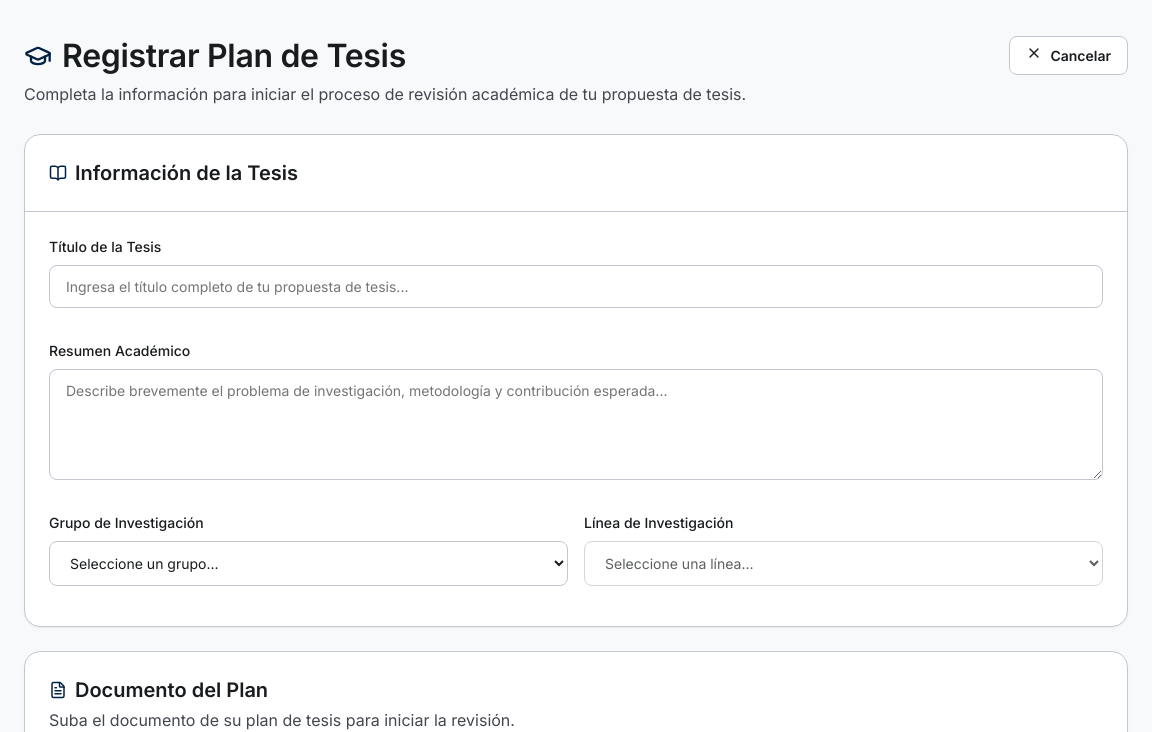
Test: NewThesisPlan › shows validation error for short resumen
Type "Título válido para test" into the field with placeholder "Ingresa el título completo de tu propuesta de tesis..." at [576, 286], box 49,265 -> 1103,308
(page scrolled)
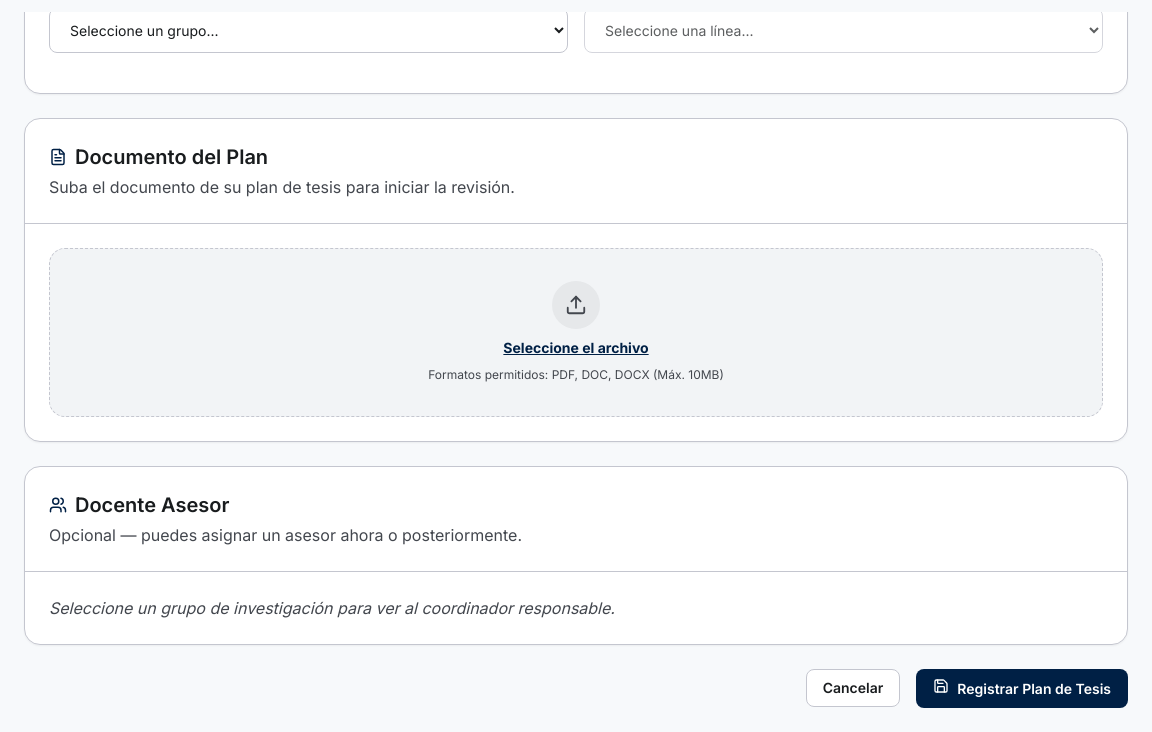
Click the button "Registrar Plan de Tesis" at [1022, 688], box 916,669 -> 1128,708
(page scrolled)
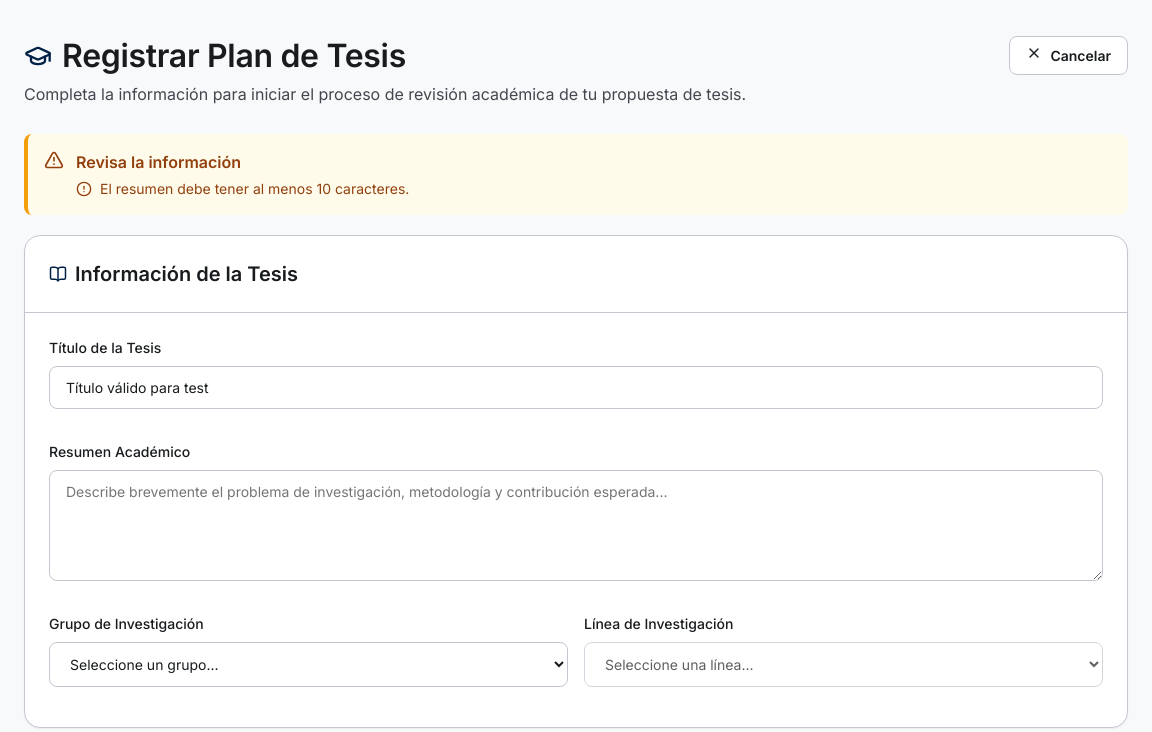
Expected: the text "El resumen debe tener al menos 10 caracteres." is shown, 100,178 -> 409,199
